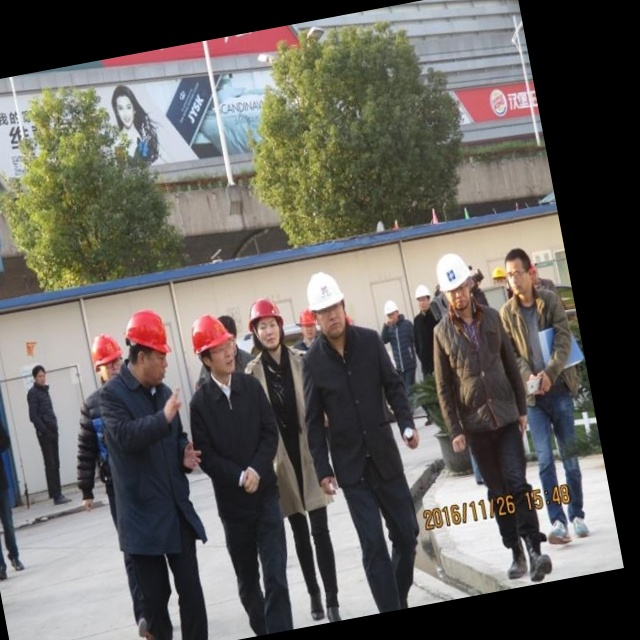Con_Casco: (303, 268, 353, 342), (188, 310, 239, 378)
Sin_Casco_Mascarrilla: (502, 246, 539, 302)
